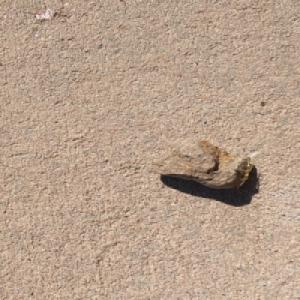Rock: (145, 136, 254, 190)
